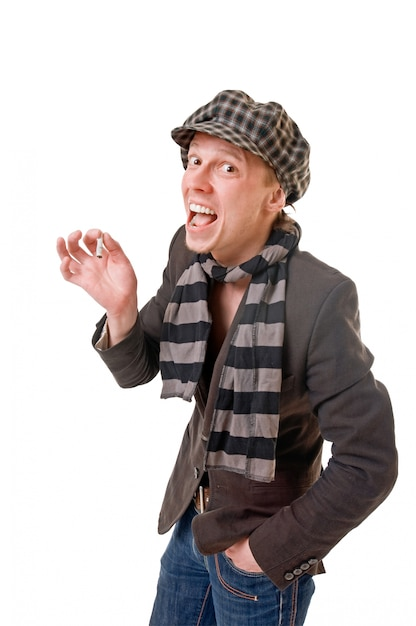cigarette: (94, 225, 106, 261)
